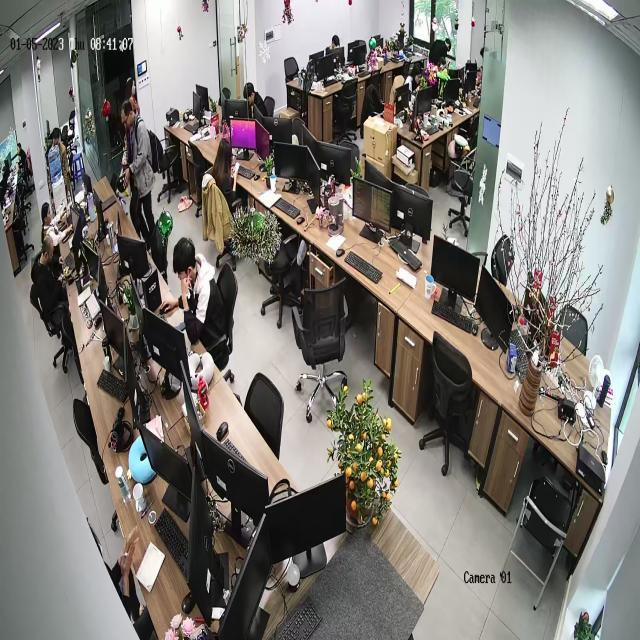person: (157, 236, 228, 358), (121, 98, 159, 264), (32, 233, 80, 332), (210, 132, 241, 213), (48, 128, 74, 209), (41, 201, 77, 252), (244, 82, 269, 122)
